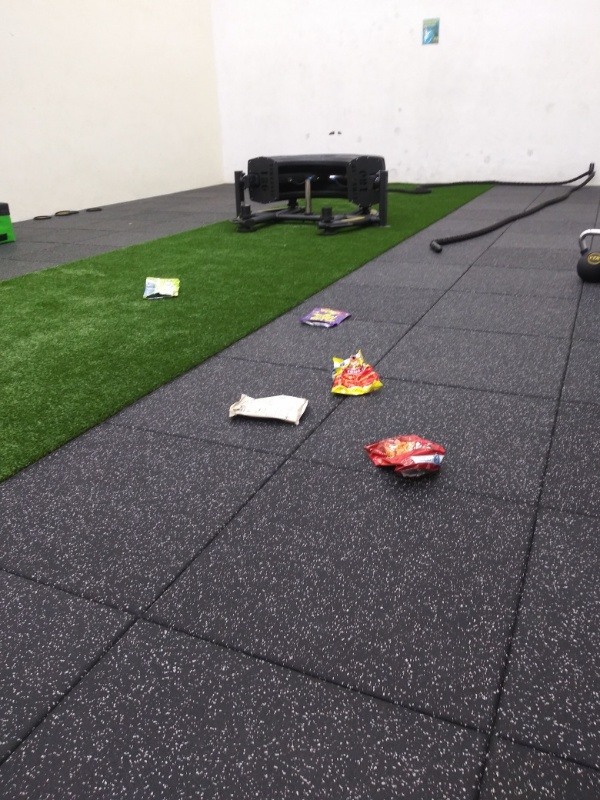bag: (360, 431, 450, 484), (221, 387, 315, 431), (327, 347, 392, 401), (298, 302, 356, 332), (143, 270, 188, 301)
